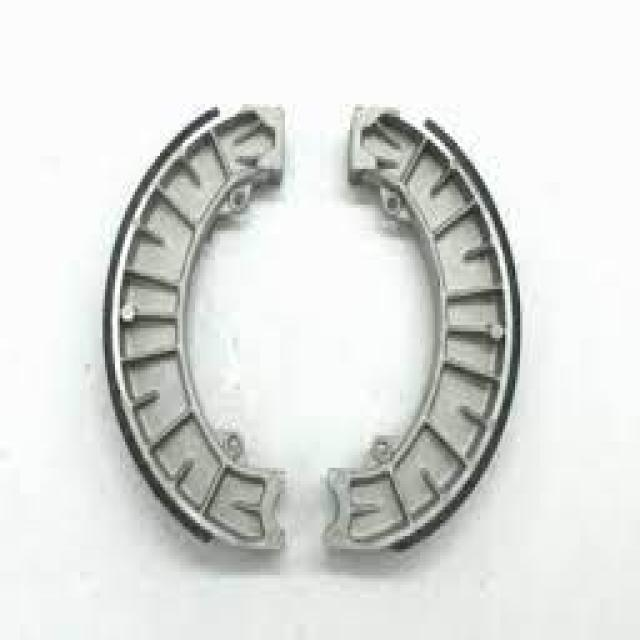brake_pad: (329, 96, 532, 560), (97, 109, 293, 544)
